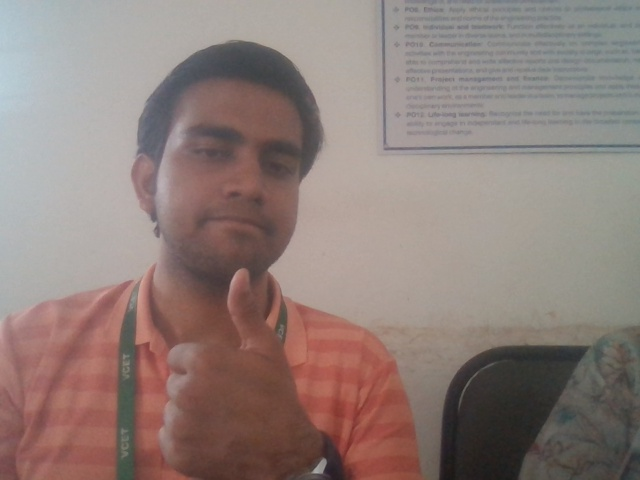ok: (115, 256, 451, 480)
